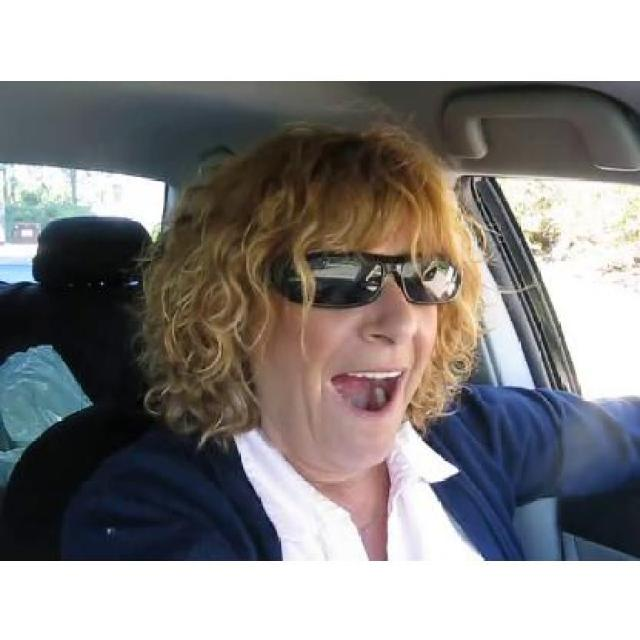inattentif: (247, 122, 439, 484)
